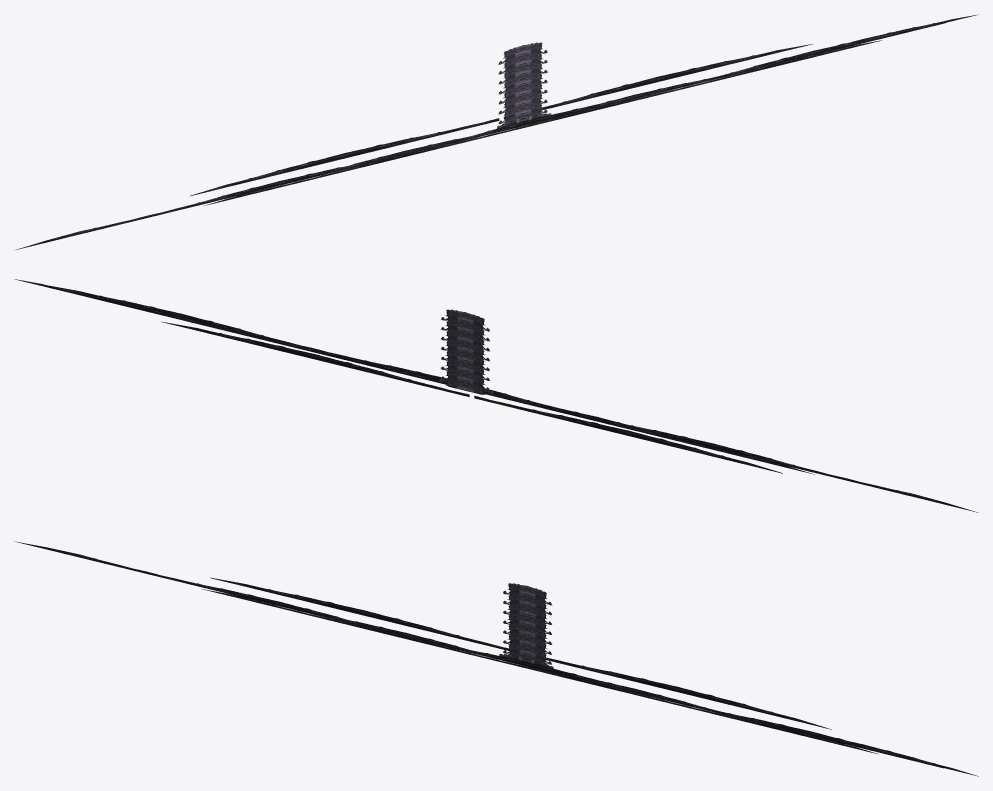
File: Tower_Dark.fbx
The picture shows the model from 3 angles, top to bottom: view 1: azimuth 30°, elevation 25°; view 2: azimuth 150°, elevation 25°; view 3: azimuth 330°, elevation 25°; orthographic projection.
Visible parts, largest first — view 1: tower_dark_base, tower_dark, tower_dark_base03, tower_dark_base02; view 2: tower_dark_base, tower_dark, tower_dark_base02; view 3: tower_dark_base, tower_dark, tower_dark_base03, tower_dark_base02.
Boxes of the visible parts, <box> form: tower_dark_base: <box>16,22,945,249</box>; tower_dark: <box>498,42,547,124</box>; tower_dark_base03: <box>204,40,881,205</box>; tower_dark_base02: <box>351,14,978,165</box>; tower_dark_base: <box>51,286,978,512</box>; tower_dark: <box>440,309,489,394</box>; tower_dark_base02: <box>14,279,814,474</box>; tower_dark_base: <box>14,541,943,768</box>; tower_dark: <box>503,583,552,664</box>; tower_dark_base03: <box>201,589,878,754</box>; tower_dark_base02: <box>351,620,978,776</box>.
Size of the model in its own units: 150 by 11.82 by 2.93.
1 material, 1 textured.
